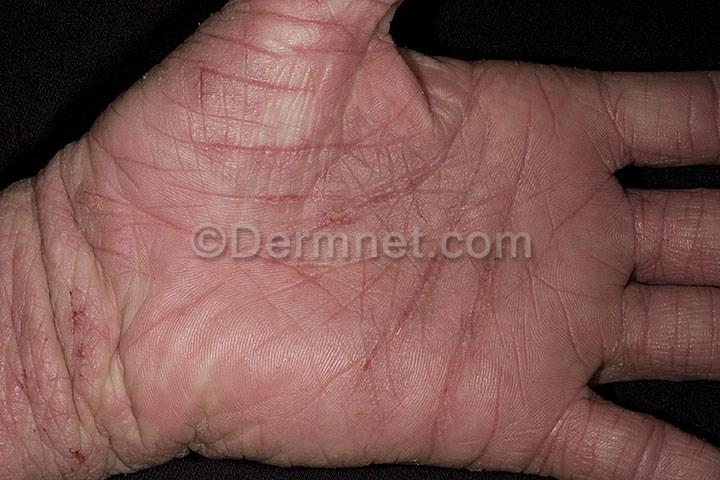eritema 1: (91, 0, 719, 479)
exudacion 1: (5, 291, 112, 470)
liquenificacion 3: (0, 0, 719, 479)
